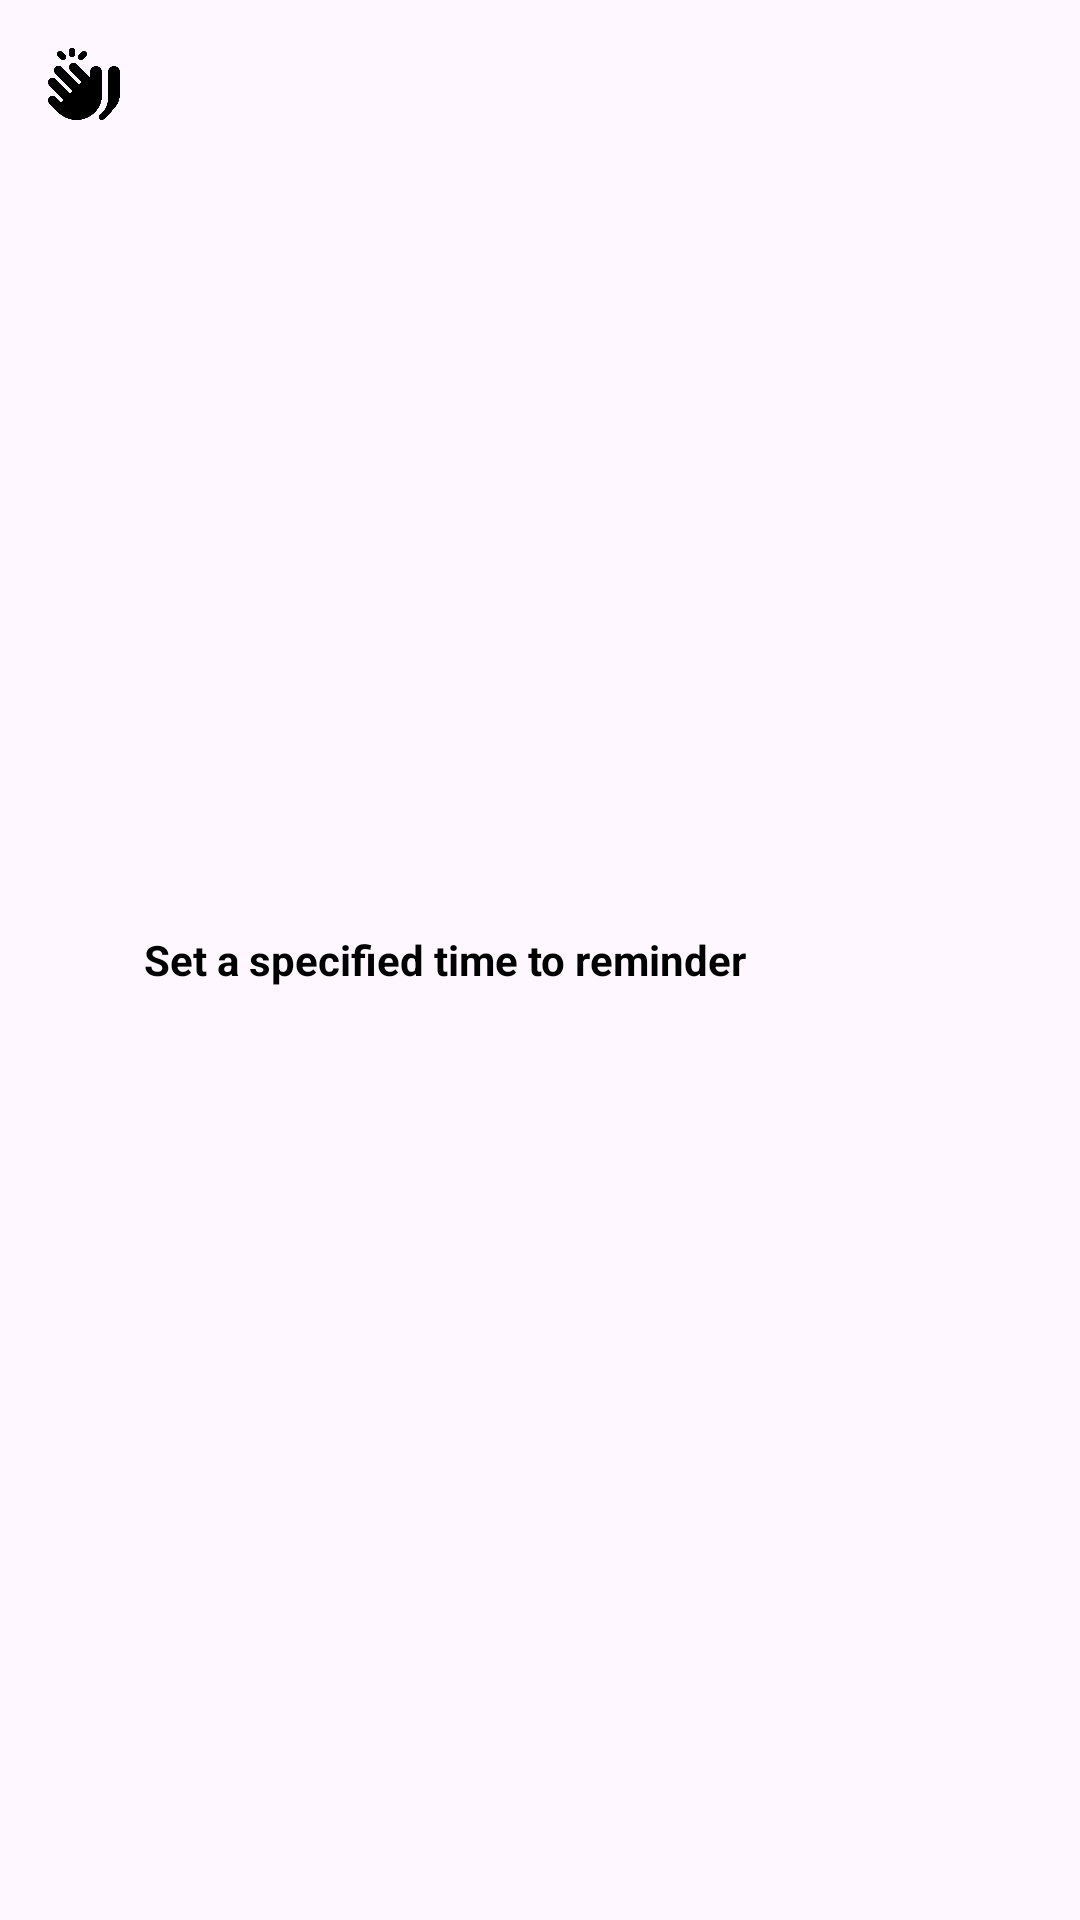

Icon bounding boxes for this 1080w x 1920h phone screenshot, format bbox=[x1, y1, x2, y2]:
hand: bbox=[48, 48, 120, 120]
